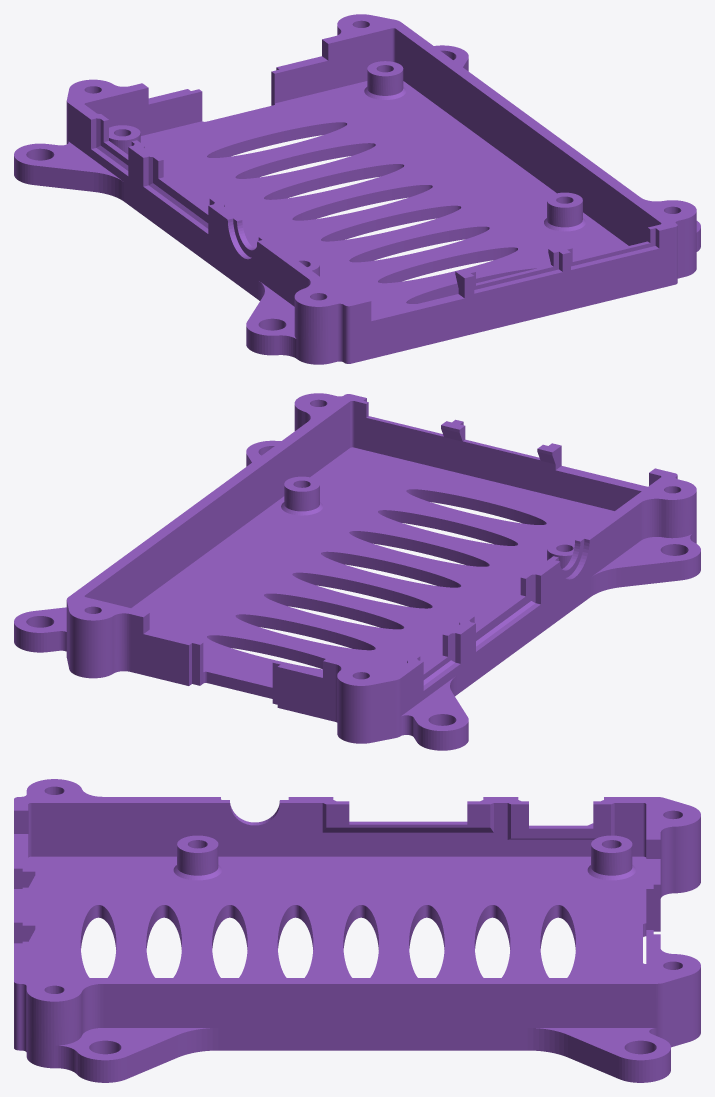
Rendered from RPIInferior.glb.
The picture shows the model from 3 angles, top to bottom: view 1: azimuth 30°, elevation 25°; view 2: azimuth 150°, elevation 25°; view 3: azimuth 270°, elevation 25°; orthographic projection. The views are drawn at different scales.
Visible parts, largest first — view 1: Mesh_0.004; view 2: Mesh_0.004; view 3: Mesh_0.004.
Boxes of the visible parts, x1,y1,x2,y2 form: Mesh_0.004: [14, 14, 700, 364]; Mesh_0.004: [14, 393, 700, 750]; Mesh_0.004: [14, 779, 700, 1082].
Size of the model in its own units: 83.49 by 10.3 by 96.25.
